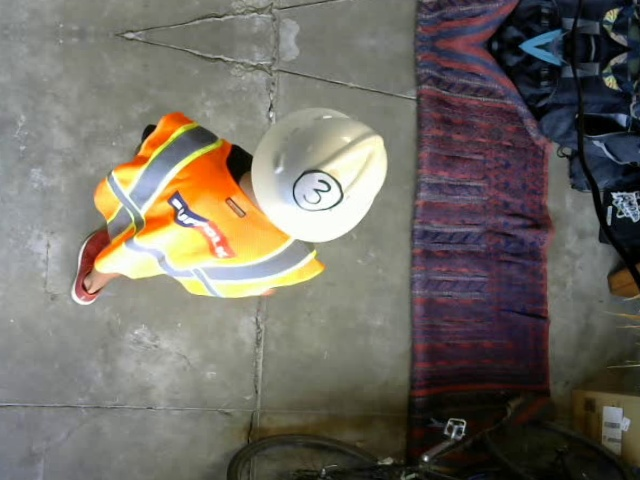three: (291, 169, 343, 212)
